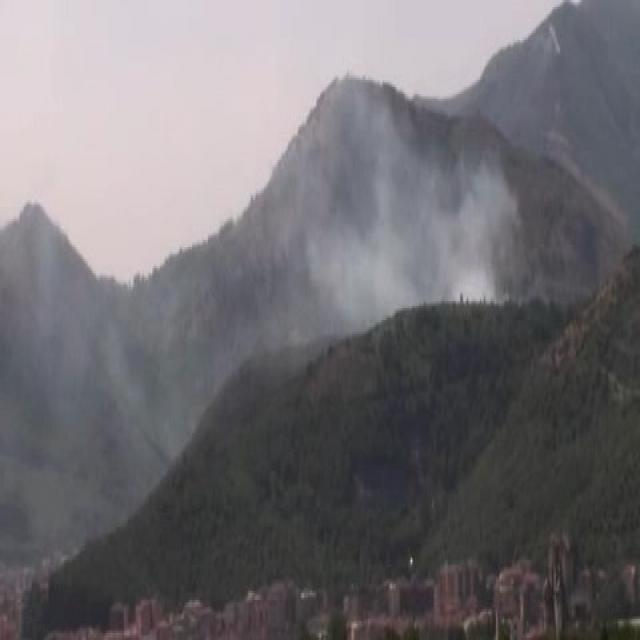smoke: (322, 92, 524, 301)
